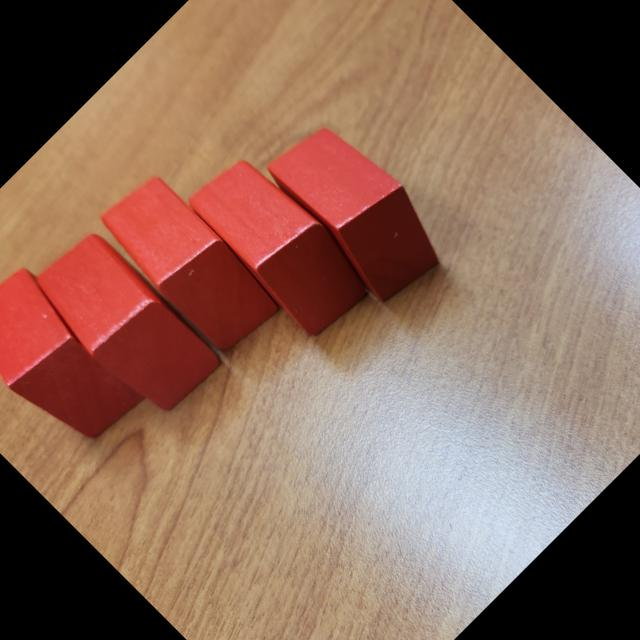red: (23, 222, 227, 426), (256, 108, 460, 312), (180, 144, 382, 345), (89, 164, 288, 363), (0, 256, 152, 461)
